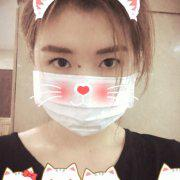OK: (36, 38, 132, 134)
